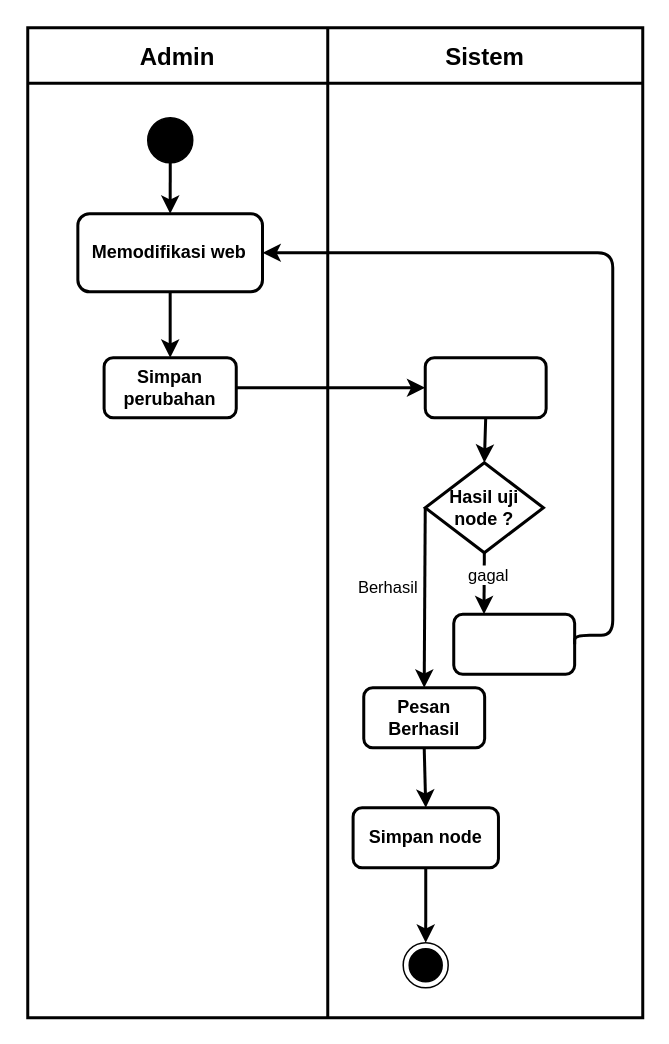
This 669x1044 diagram has some shape labels left out. Each missing label, with the centre of its shape:
"Pesan Eror" goes at (513,643).
"Verifikasi node" goes at (485,387).
